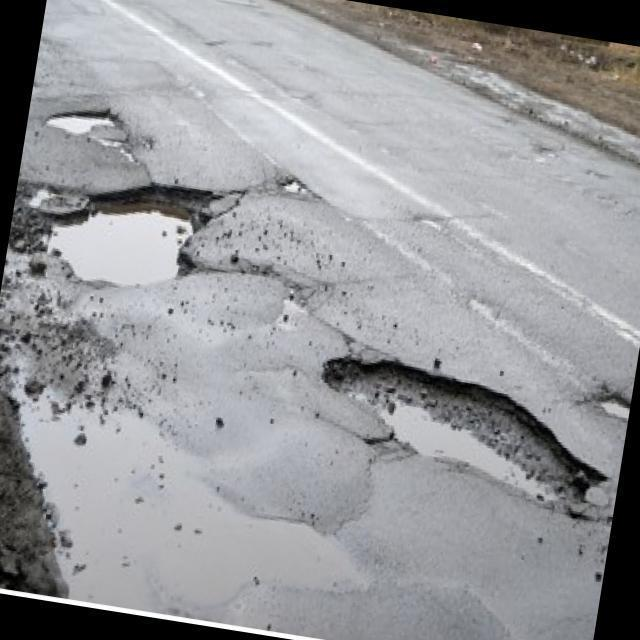pothole: (306, 348, 622, 513), (39, 162, 218, 301), (42, 99, 121, 144), (595, 389, 633, 426), (281, 173, 319, 198)
